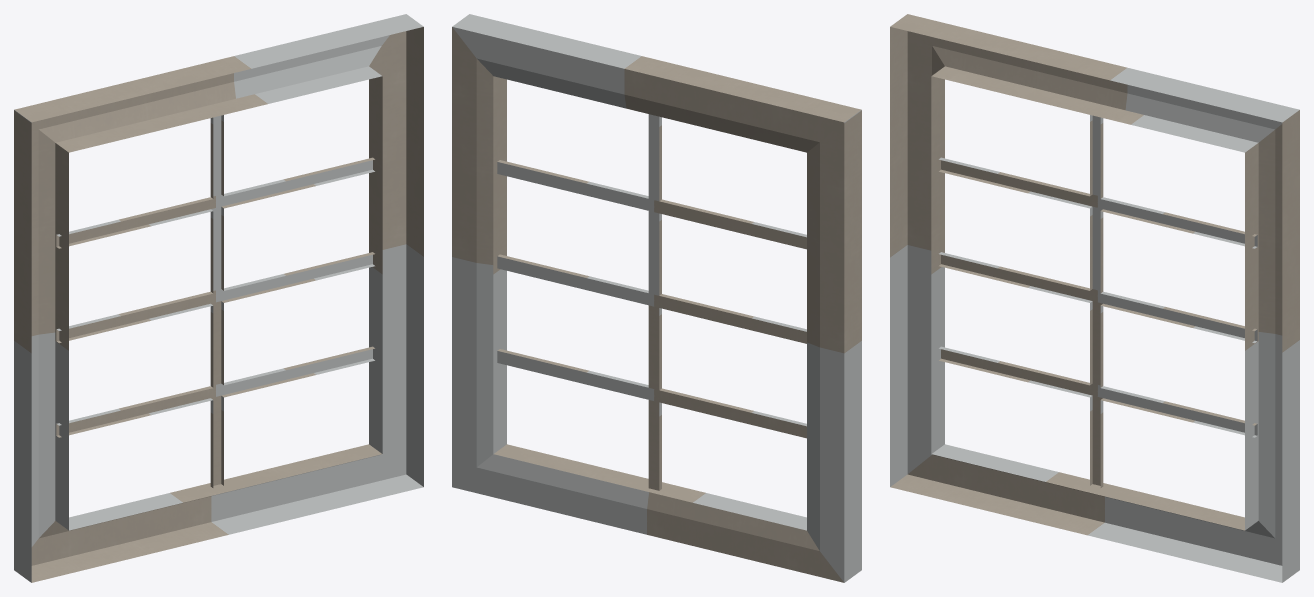
The model's file is Window_1.fbx.
3 views of the same model, side by side, from view 1: azimuth 30°, elevation 25°; view 2: azimuth 150°, elevation 25°; view 3: azimuth 330°, elevation 25° (orthographic).
Parts seen in each view (by area): view 1: Window_1; view 2: Window_1; view 3: Window_1.
Boxes of the visible parts, x1=… form: Window_1: x1=14, y1=14, x2=423, y2=582; Window_1: x1=452, y1=14, x2=861, y2=582; Window_1: x1=890, y1=14, x2=1299, y2=582.
Bounding box in the file's own units: 194 × 217 × 14.91.
